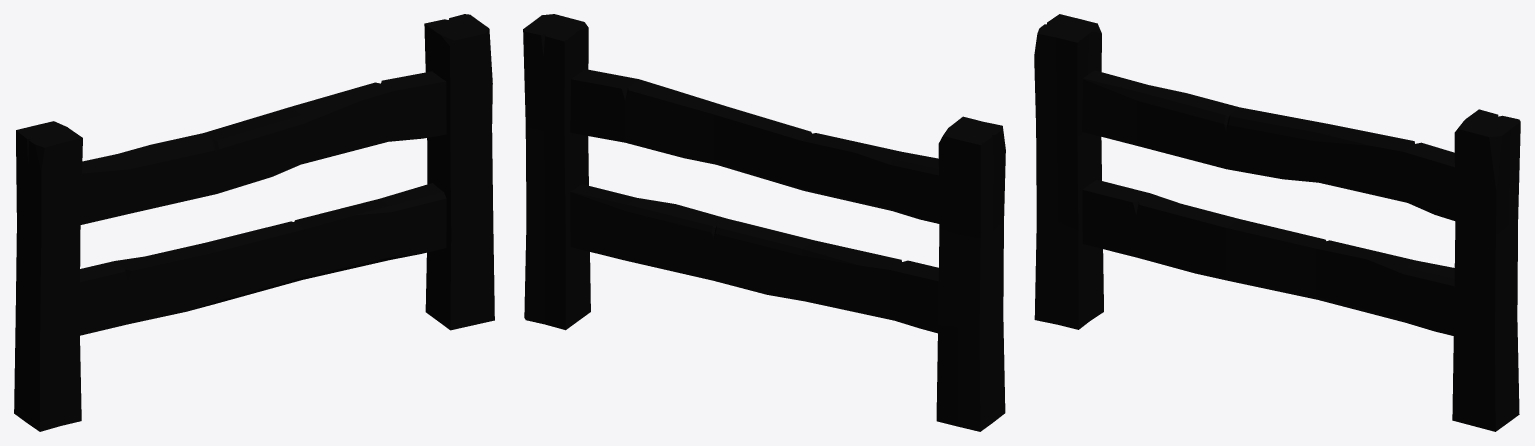
File: valla.002.fbx
The picture shows the model from 3 angles, left to right: view 1: azimuth 30°, elevation 25°; view 2: azimuth 150°, elevation 25°; view 3: azimuth 330°, elevation 25°; orthographic projection.
Parts seen in each view (by area): view 1: Cube.070; view 2: Cube.070; view 3: Cube.070.
Part boxes in pixels (x1,y1,x2,y2): Cube.070: (14,14,494,431); Cube.070: (523,14,1005,431); Cube.070: (1034,14,1520,431).
Size of the model in its own units: 78.02 by 8.27 by 47.2.
